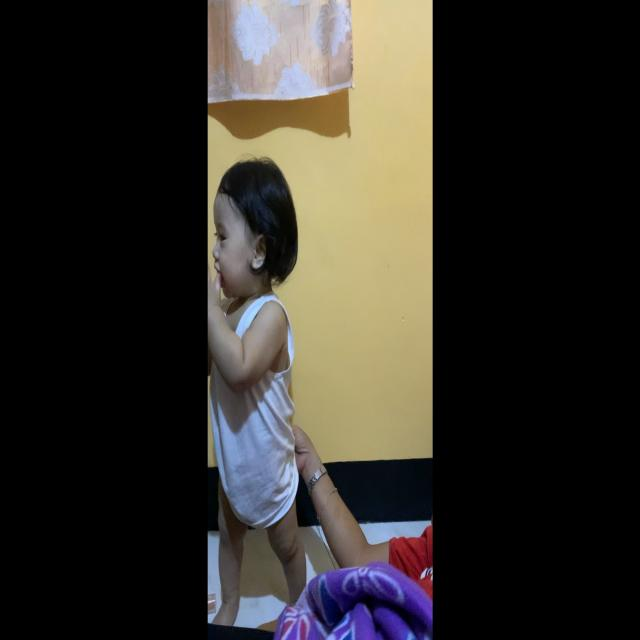child: (208, 153, 307, 626)
